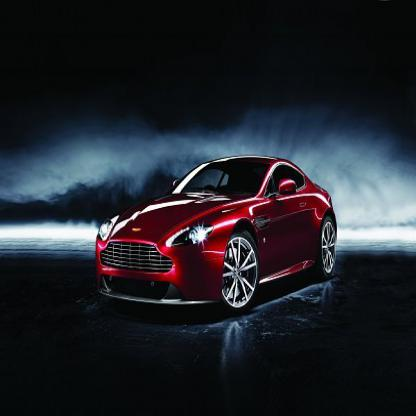car: (96, 156, 338, 312)
